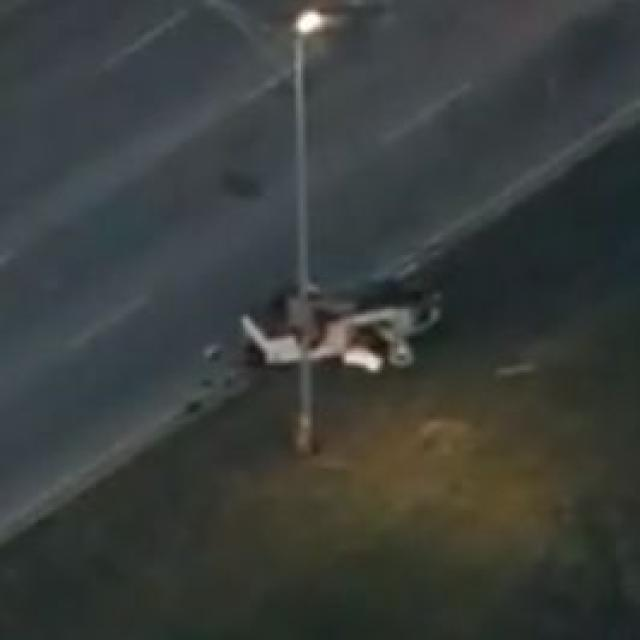traffic_incident: (226, 262, 445, 380)
